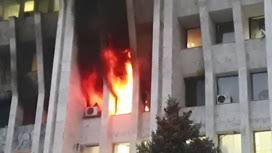fire: (79, 42, 157, 119)
